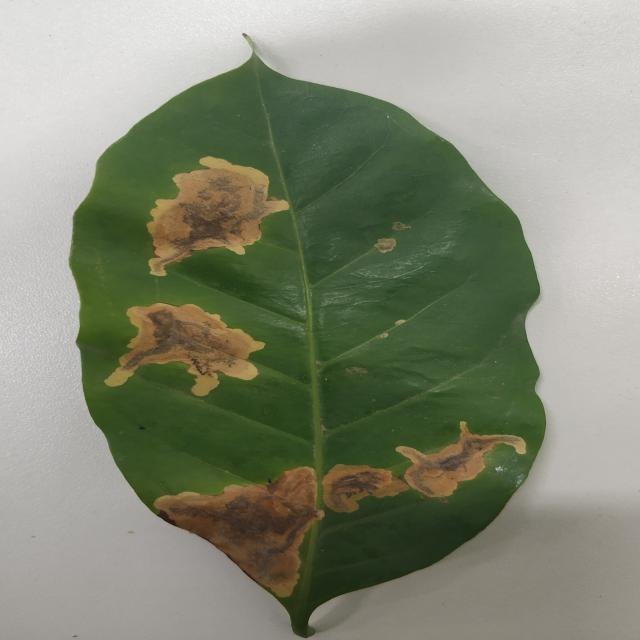Plaga-Minador: (68, 51, 548, 636)
